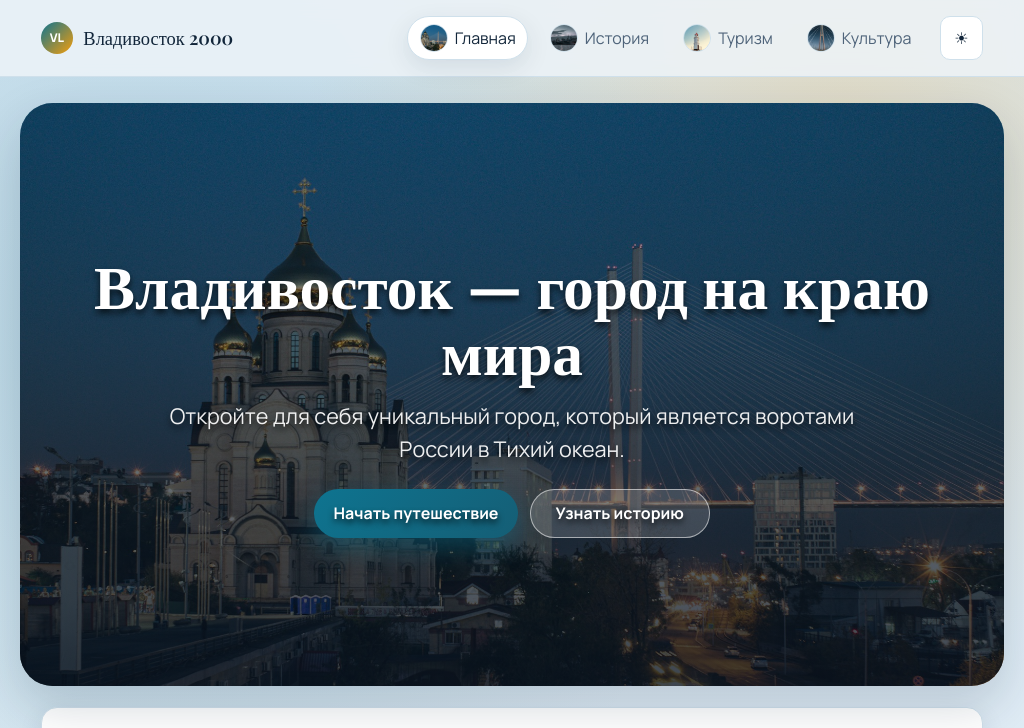
Scenario: App smoke tests › navigates from home to tourism via navbar link
The width and height of the screenshot is (1024, 728).
Click the link "Туризм" at (728, 38), box [683,24,773,52]
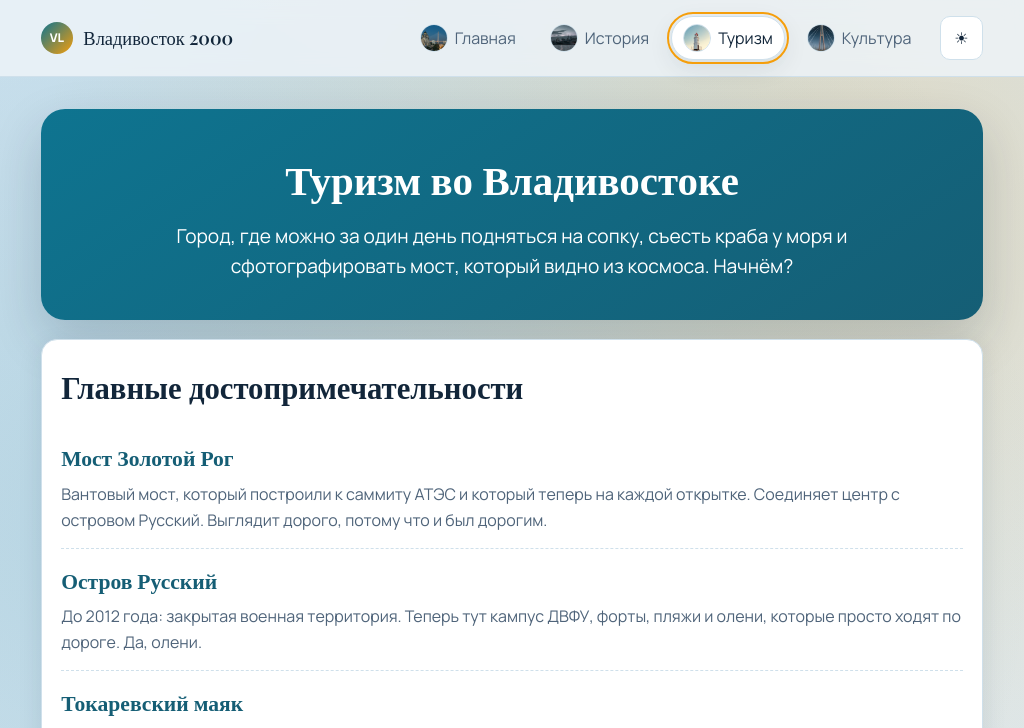
Result: the heading "Туризм во Владивостоке" is shown at [285,151,739,205]
